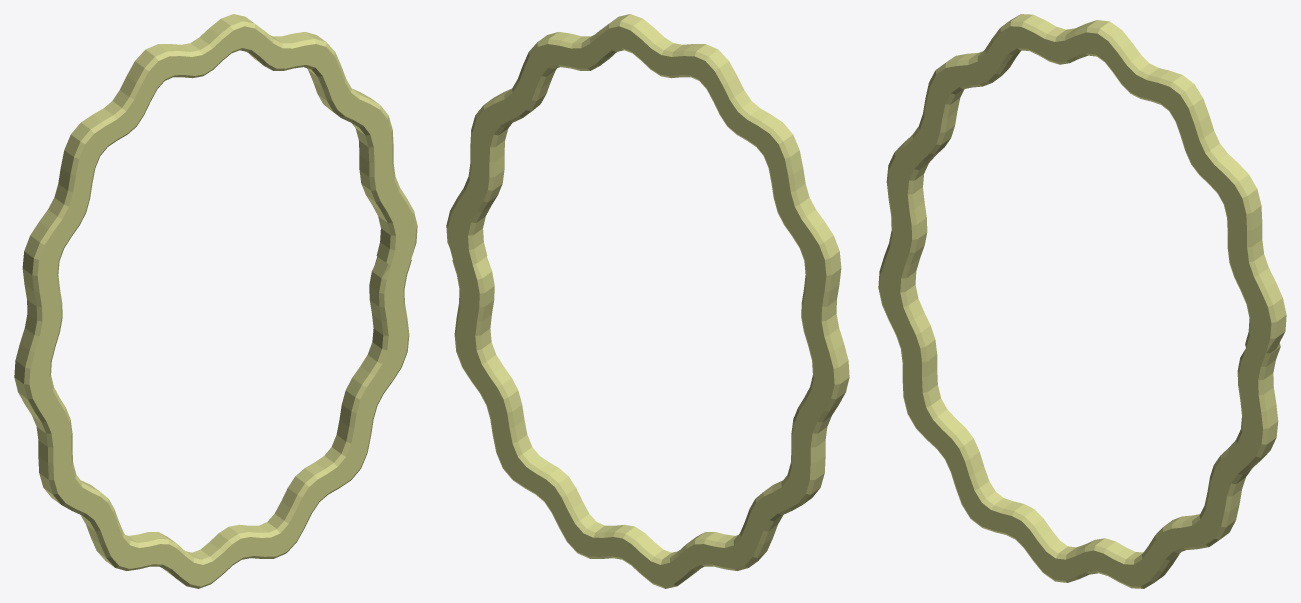
File: mirrorFrame.glb
3 renders of one model, left to right at view 1: azimuth 30°, elevation 25°; view 2: azimuth 150°, elevation 25°; view 3: azimuth 330°, elevation 25°, orthographic.
Parts seen in each view (by area): view 1: #D6D88F; view 2: #D6D88F; view 3: #D6D88F.
Part boxes in pixels (x1=…): #D6D88F: x1=14, y1=14, x2=417, y2=588; #D6D88F: x1=446, y1=14, x2=849, y2=588; #D6D88F: x1=878, y1=14, x2=1286, y2=588.
Size of the model in its own units: 0.7012 by 0.9482 by 0.042.
